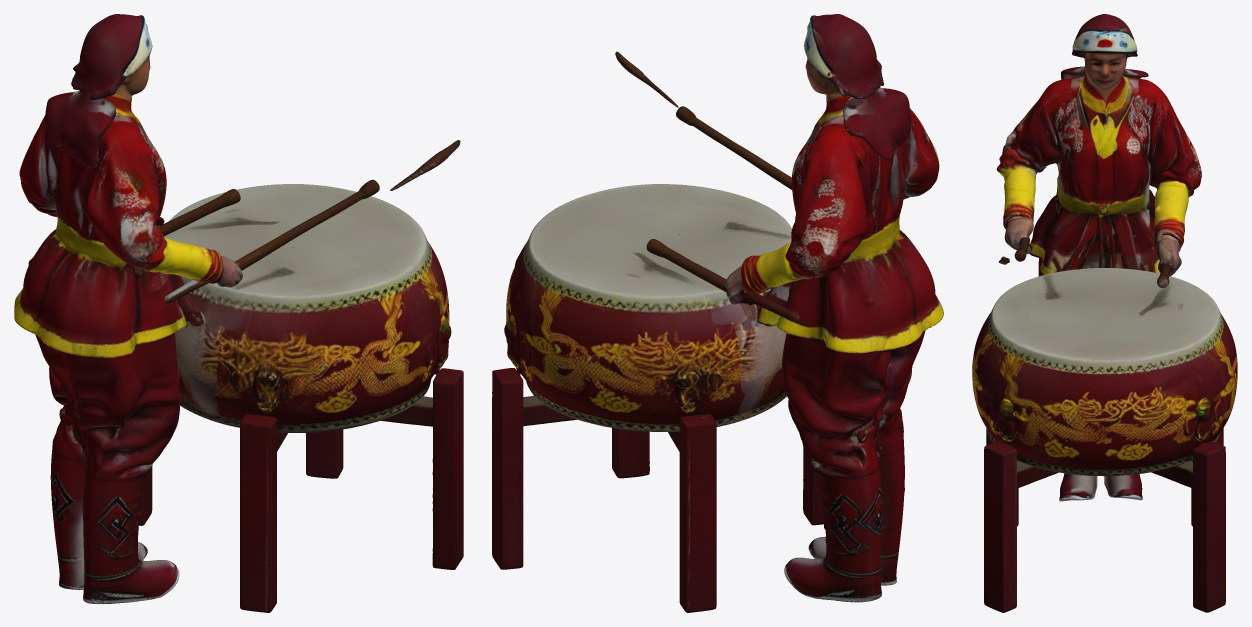
Rendered from manoder.glb.
The picture shows the model from 3 angles, left to right: view 1: azimuth 30°, elevation 25°; view 2: azimuth 150°, elevation 25°; view 3: azimuth 270°, elevation 25°; orthographic projection. The views are drawn at different scales.
Visible parts, largest first — view 1: tripo_node_ca1eb274-de5c-4b84-bfa6-4c05d5fac9e5; view 2: tripo_node_ca1eb274-de5c-4b84-bfa6-4c05d5fac9e5; view 3: tripo_node_ca1eb274-de5c-4b84-bfa6-4c05d5fac9e5.
Part boxes in pixels (x1,y1,x2,y2): tripo_node_ca1eb274-de5c-4b84-bfa6-4c05d5fac9e5: [14, 14, 463, 612]; tripo_node_ca1eb274-de5c-4b84-bfa6-4c05d5fac9e5: [492, 14, 943, 612]; tripo_node_ca1eb274-de5c-4b84-bfa6-4c05d5fac9e5: [972, 14, 1237, 612].
Size of the model in its own units: 3.69 by 5.07 by 2.53.
1 material, 1 textured.
